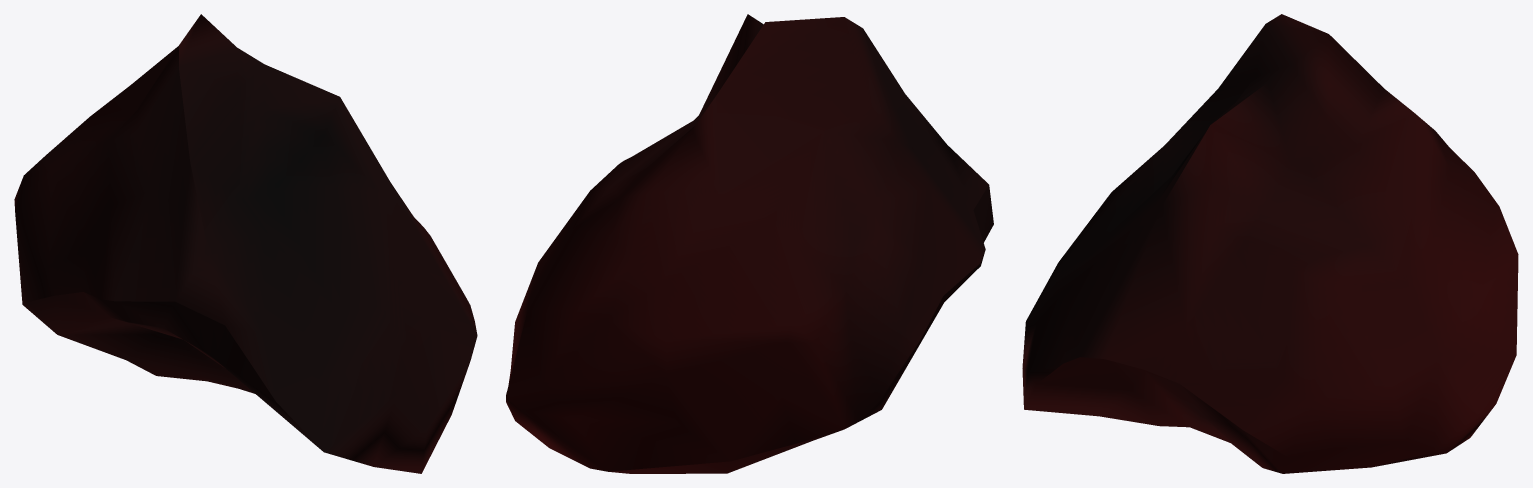
File: geology-pebbles-obsidian_v1.fbx
3 views of the same model, side by side, from view 1: azimuth 30°, elevation 25°; view 2: azimuth 150°, elevation 25°; view 3: azimuth 270°, elevation 25° (orthographic). The views are drawn at different scales.
Visible parts, largest first — view 1: Obsidian_v1; view 2: Obsidian_v1; view 3: Obsidian_v1.
Part boxes in pixels (x1,y1,x2,y2): Obsidian_v1: (14, 14, 477, 473); Obsidian_v1: (506, 14, 993, 473); Obsidian_v1: (1022, 14, 1518, 473).
Size of the model in its own units: 10.52 by 10.2 by 12.46.
